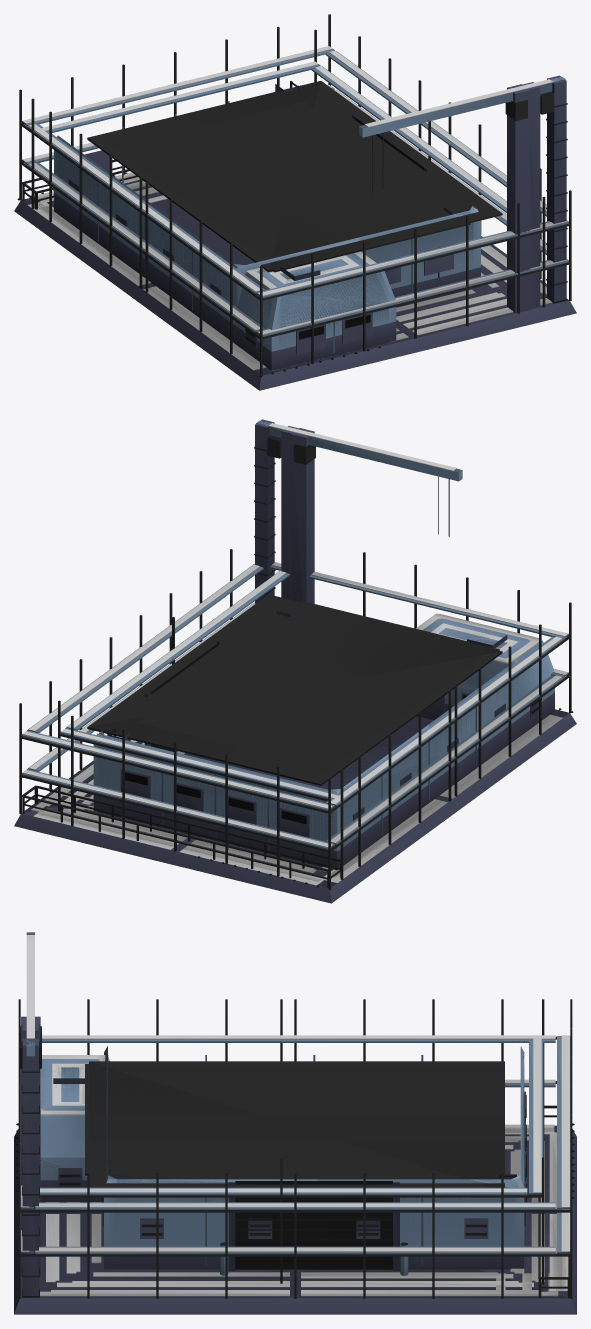
File: veyran_vehicle_factory_scaffolding.glb
3 renders of one model, top to bottom at view 1: azimuth 30°, elevation 25°; view 2: azimuth 150°, elevation 25°; view 3: azimuth 270°, elevation 25°, orthographic. The views are drawn at different scales.
Visible parts, largest first — view 1: body (×3); view 2: body (×3); view 3: body (×3).
Part boxes in pixels (left/top/right/bottom): body (×3): left=14, top=14, right=576, bottom=390; body (×3): left=14, top=419, right=576, bottom=903; body (×3): left=14, top=932, right=576, bottom=1314.
Bounding box in the file's own units: 11.2 × 7.82 × 15.
